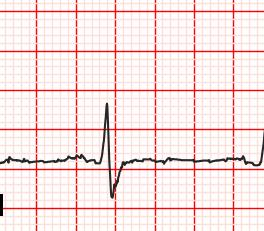ST Depression: (92, 154, 127, 201)
